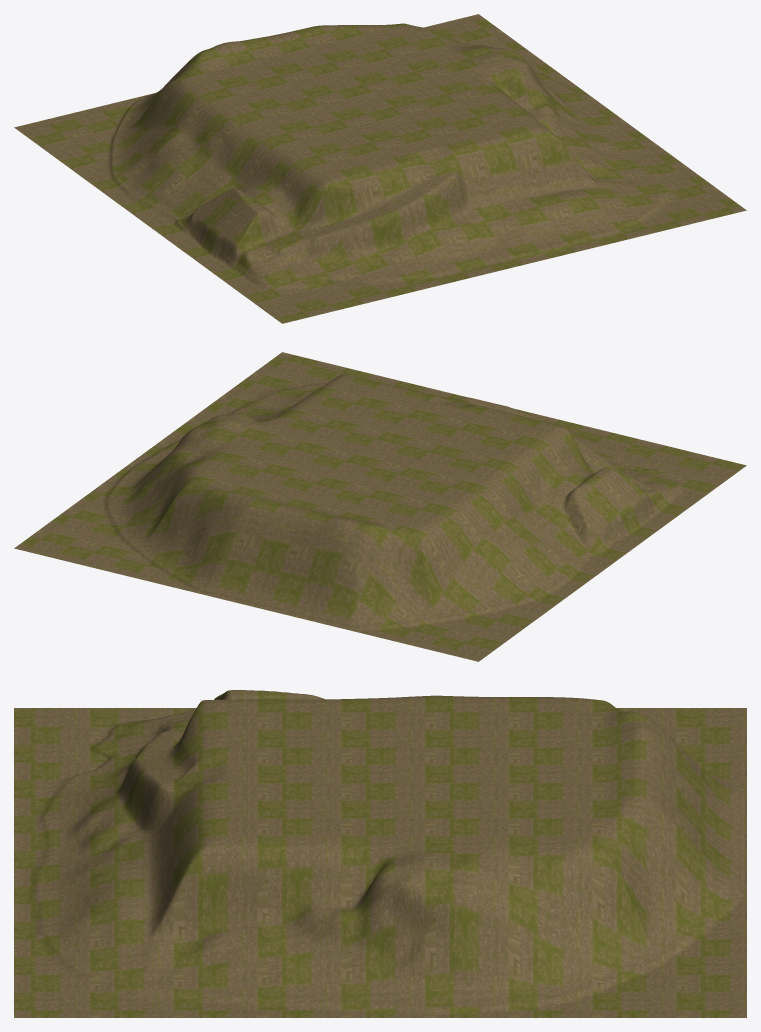
3 renders of one model, top to bottom at view 1: azimuth 30°, elevation 25°; view 2: azimuth 150°, elevation 25°; view 3: azimuth 270°, elevation 25°, orthographic. The views are drawn at different scales.
Parts seen in each view (by area): view 1: Source mountain continuous surface; view 2: Source mountain continuous surface; view 3: Source mountain continuous surface.
Boxes of the visible parts, bbox=[...] form: Source mountain continuous surface: bbox=[14, 14, 746, 323]; Source mountain continuous surface: bbox=[14, 352, 746, 661]; Source mountain continuous surface: bbox=[14, 690, 746, 1017].
Size of the model in its own units: 280 by 40.26 by 280.
Materials: 1 (1 with a texture image).
